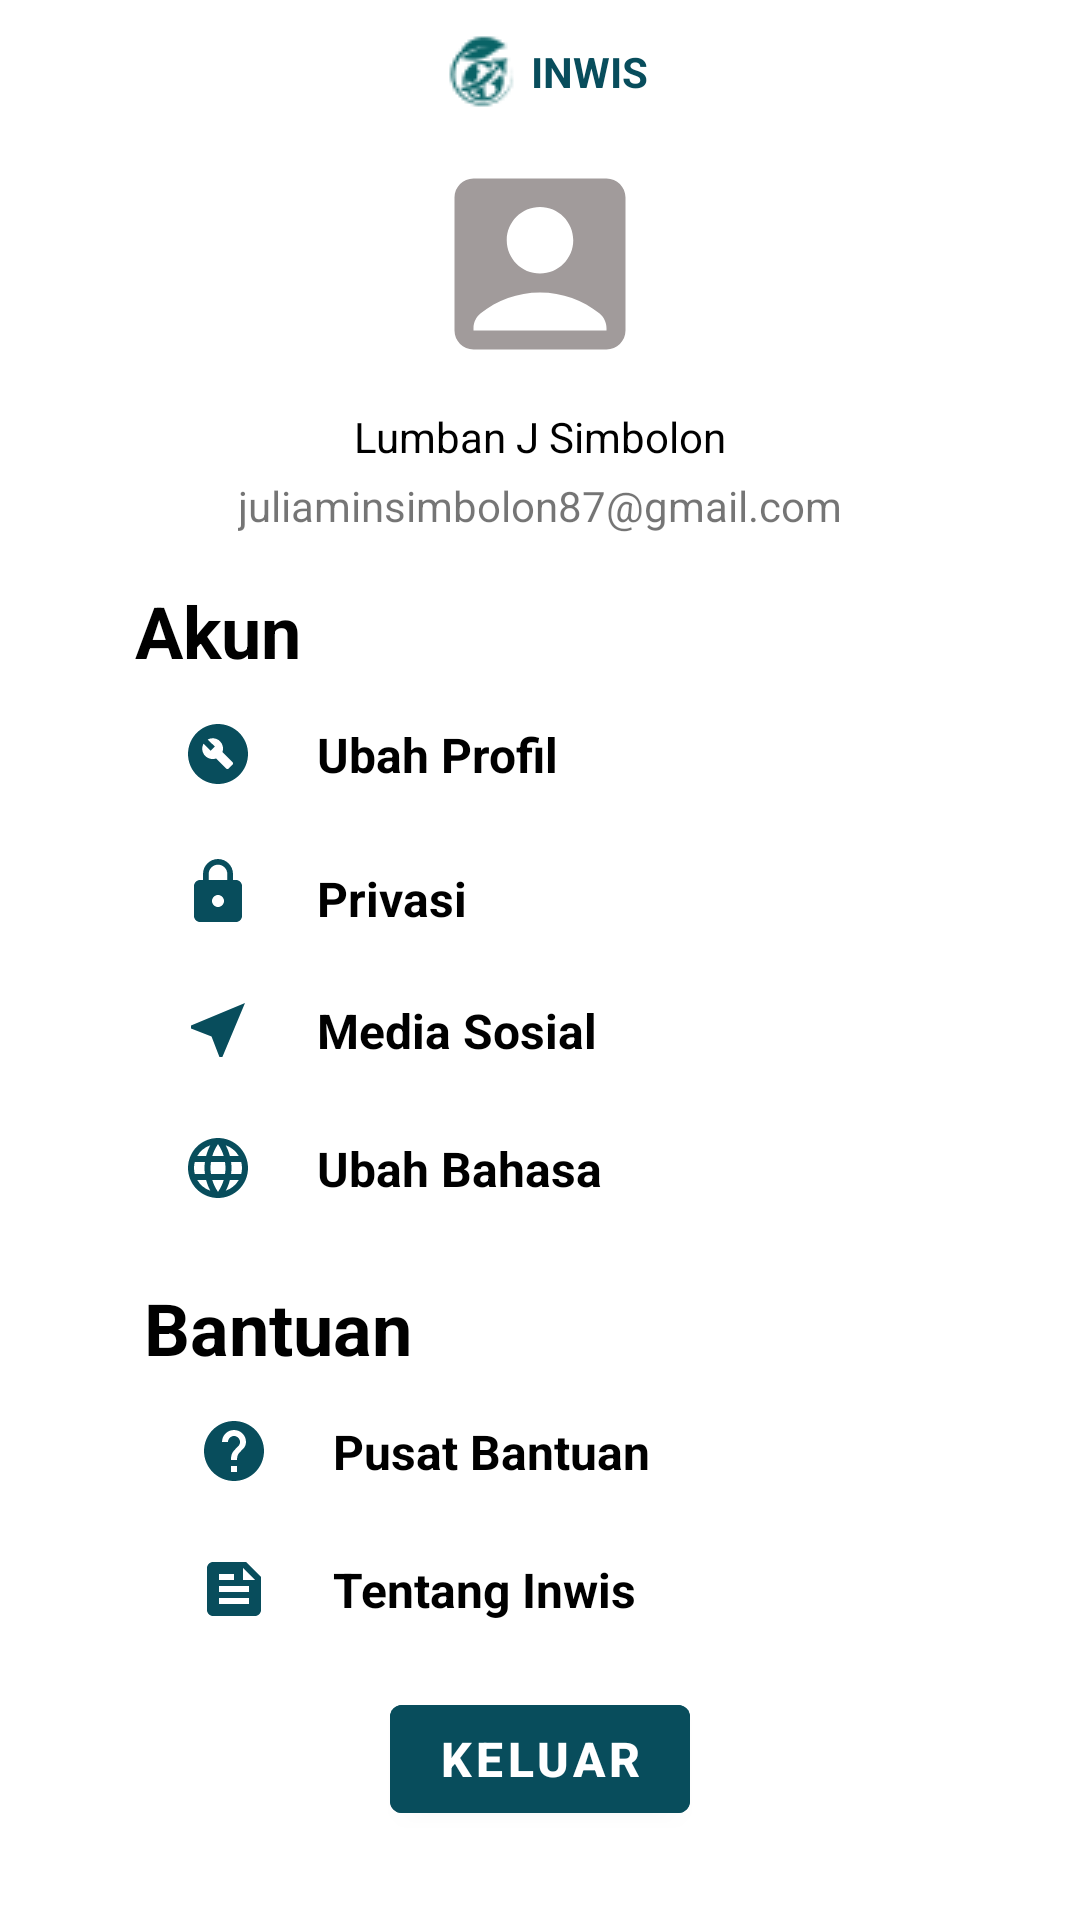

Where icons sit on this 1080x1920 app screen, as (x1, y1, x2, y2):
kata sandi: (194, 859, 242, 922)
pengaturan: (188, 724, 248, 784)
